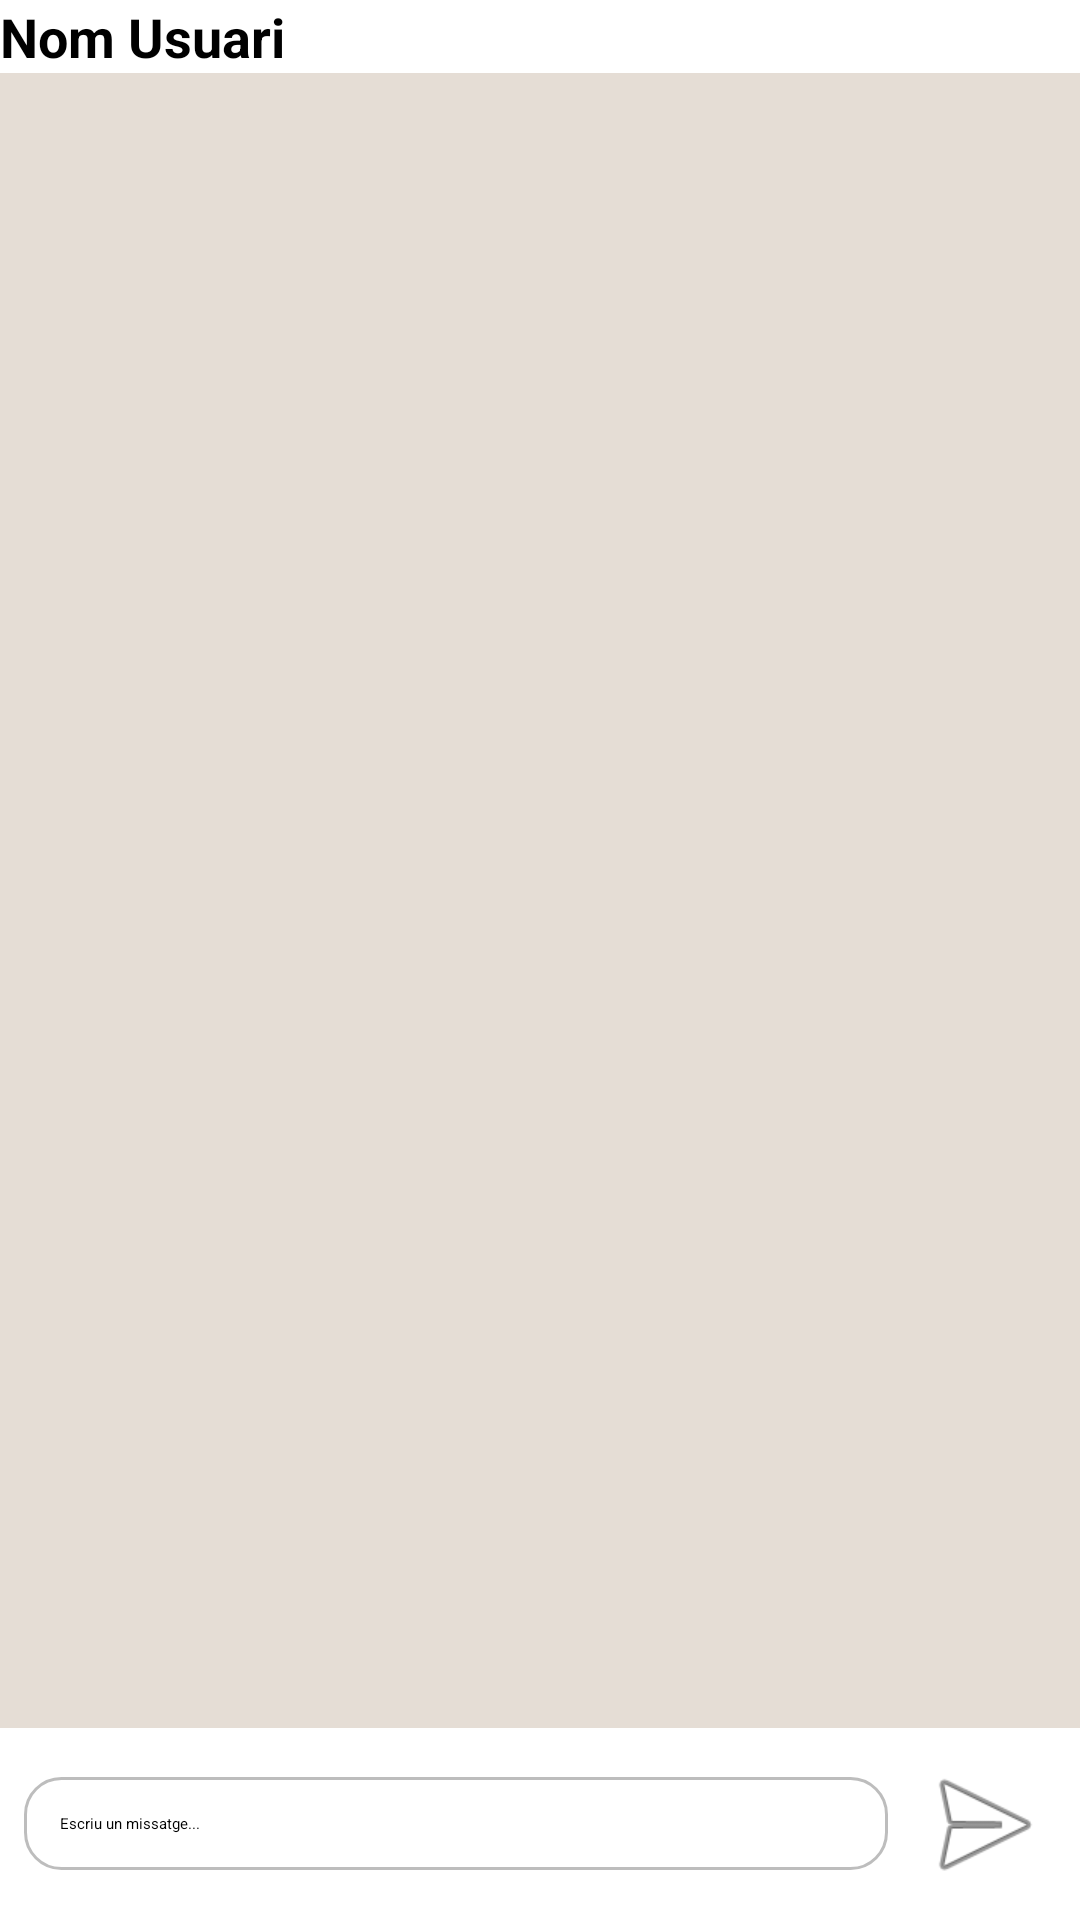

Icons on this 1080w x 1920h Android screen, each with its box as (x1, y1, x2, y2):
send: (939, 1779, 1031, 1870)
